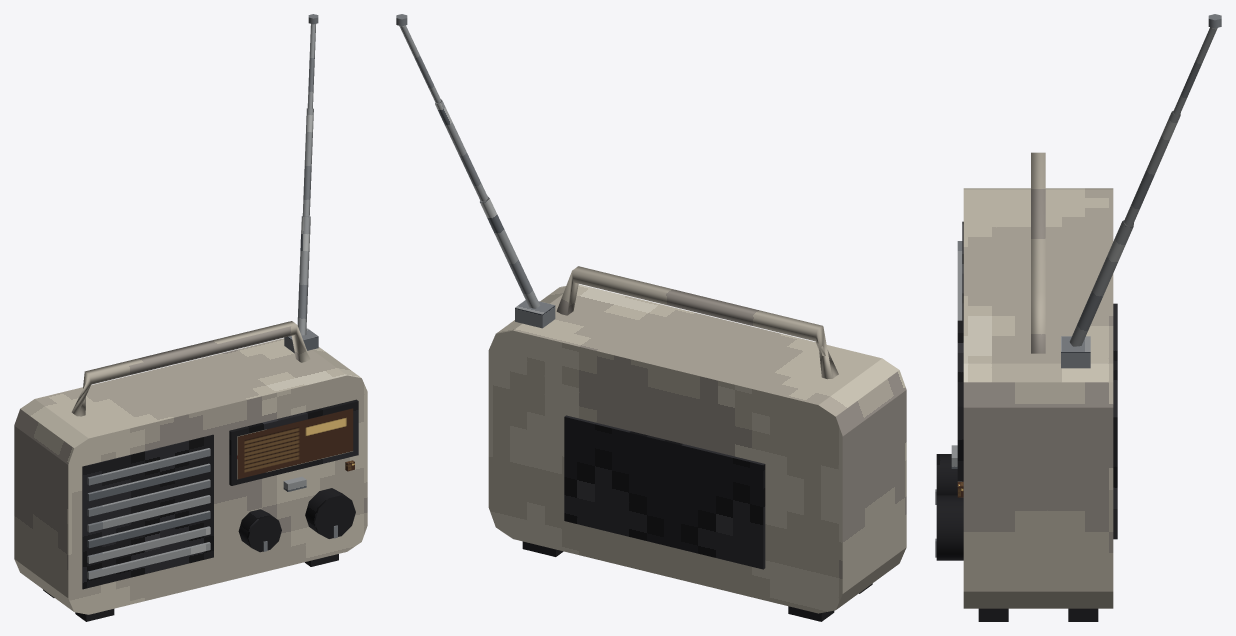
The model's file is RES_Radio.obj.
3 renders of one model, left to right at view 1: azimuth 30°, elevation 25°; view 2: azimuth 150°, elevation 25°; view 3: azimuth 270°, elevation 25°, orthographic. The views are drawn at different scales.
Visible parts, largest first — view 1: RES_Radio_Mesh_M_Furn_PlasticDirty, RES_Radio_Mesh_M_Furn_Rubber, RES_Radio_Mesh_M_Furn_MetalBrushed, Radio_Display_M_Res_DetailAtlasGlow; view 2: RES_Radio_Mesh_M_Furn_PlasticDirty, RES_Radio_Mesh_M_Furn_Rubber, RES_Radio_Mesh_M_Furn_MetalBrushed; view 3: RES_Radio_Mesh_M_Furn_PlasticDirty, RES_Radio_Mesh_M_Furn_Rubber, RES_Radio_Mesh_M_Furn_MetalBrushed.
Boxes of the visible parts, x1=… form: RES_Radio_Mesh_M_Furn_PlasticDirty: x1=14, y1=321, x2=367, y2=614; RES_Radio_Mesh_M_Furn_Rubber: x1=43, y1=399, x2=358, y2=621; RES_Radio_Mesh_M_Furn_MetalBrushed: x1=87, y1=14, x2=337, y2=579; Radio_Display_M_Res_DetailAtlasGlow: x1=237, y1=408, x2=353, y2=479; RES_Radio_Mesh_M_Furn_PlasticDirty: x1=488, y1=266, x2=906, y2=613; RES_Radio_Mesh_M_Furn_Rubber: x1=522, y1=415, x2=872, y2=621; RES_Radio_Mesh_M_Furn_MetalBrushed: x1=396, y1=14, x2=555, y2=328; RES_Radio_Mesh_M_Furn_PlasticDirty: x1=963, y1=152, x2=1113, y2=608; RES_Radio_Mesh_M_Furn_Rubber: x1=936, y1=221, x2=1117, y2=621; RES_Radio_Mesh_M_Furn_MetalBrushed: x1=935, y1=14, x2=1221, y2=557.
Bounding box in the file's own units: 0.3641 × 0.4764 × 0.1916.
4 materials, 4 textured.
